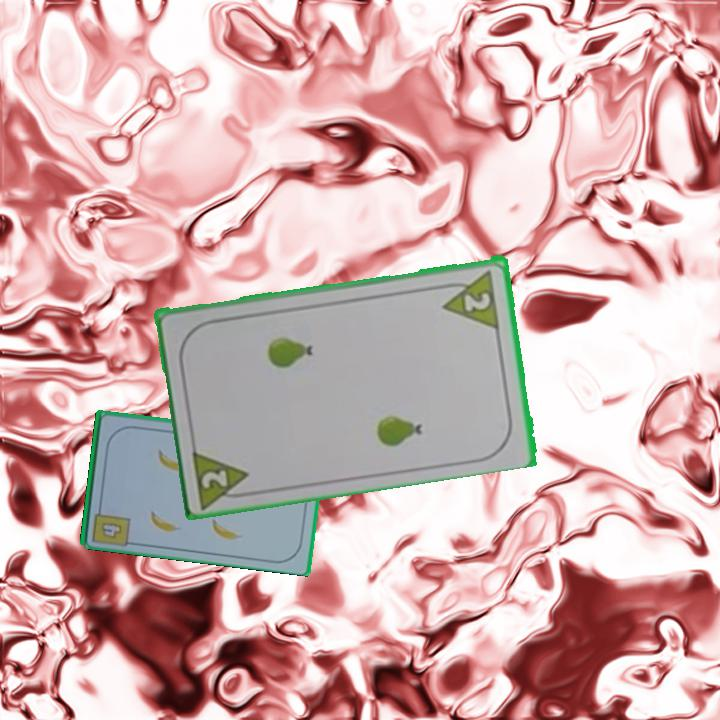2p: (188, 444, 257, 509), (437, 265, 503, 330)
4b: (100, 521, 123, 539)
